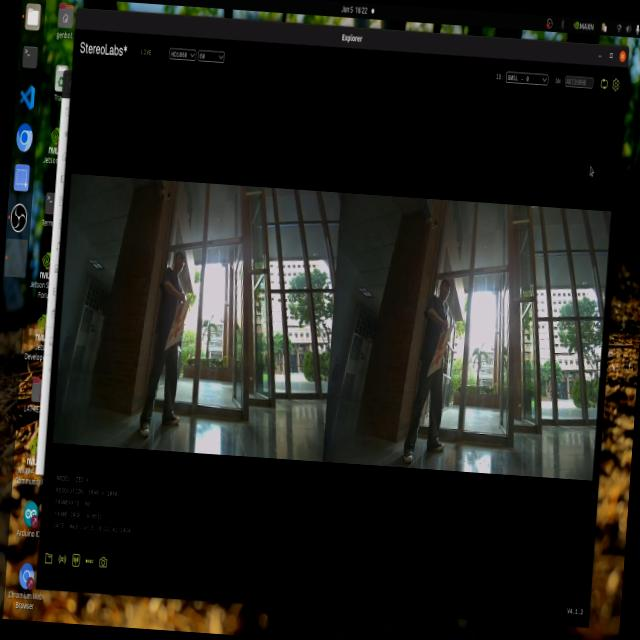red: (434, 321, 446, 372), (176, 296, 184, 341)
